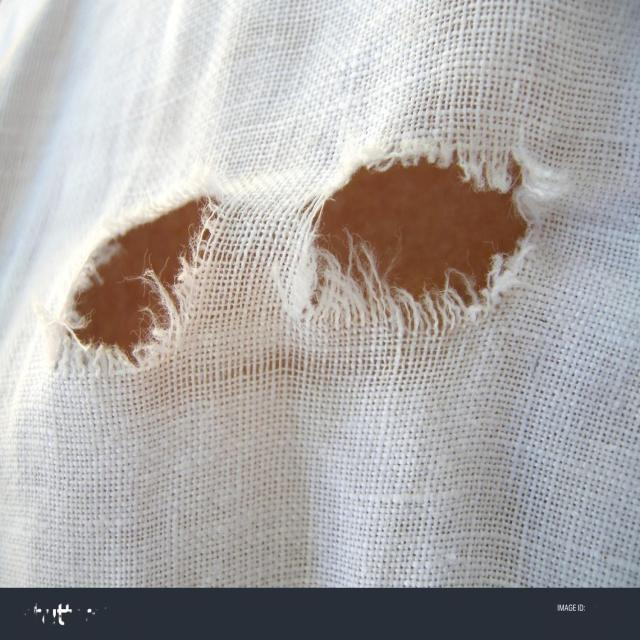cut: (292, 142, 534, 315), (52, 194, 221, 371)
